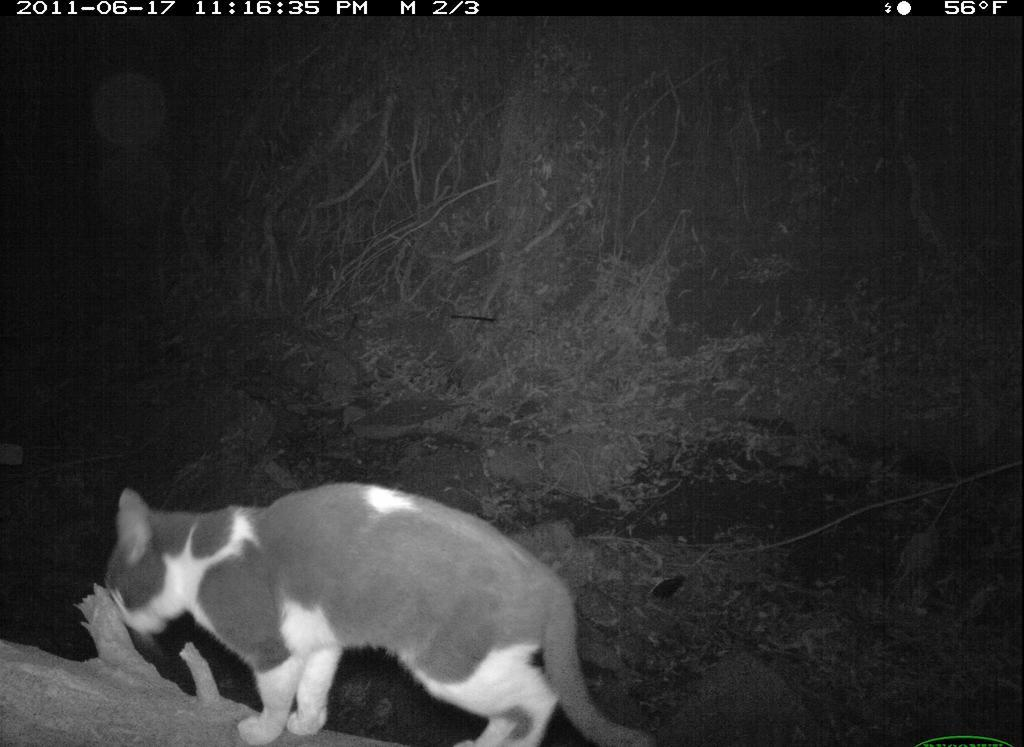cat: (97, 460, 675, 747)
